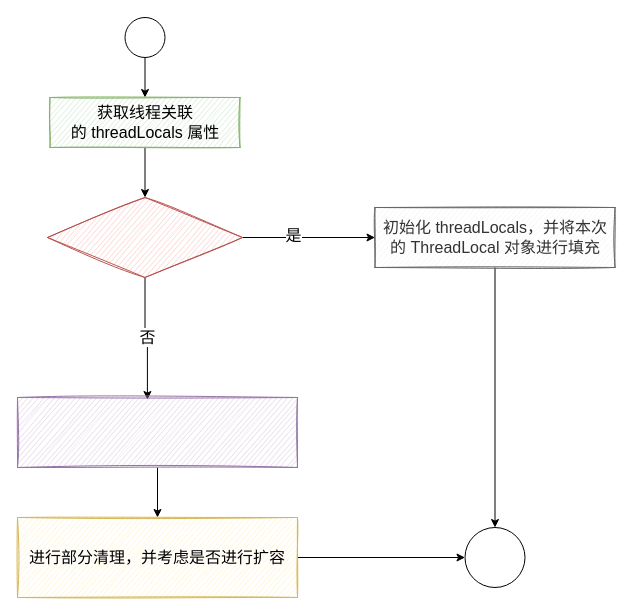
The diagram is 633 pixels wide and 615 high, and some of its shapes have lost their labels. The shapes that lost their labels are listed below. From the top down, each one's centre as x and y in pixels, then its label:
point 144,237: 当前 threadLocals 是否为 null ?
point 157,432: 定位当前 ThreadLocal 的位置，对其进行填充或替换
